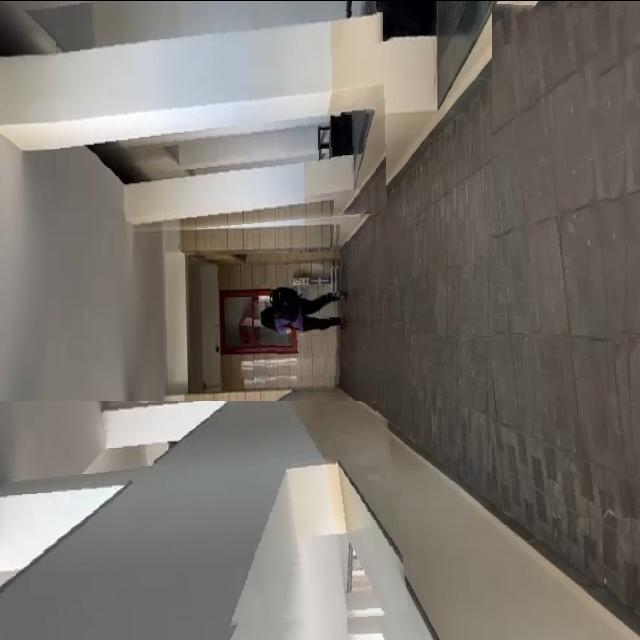floor: (492, 0, 640, 517), (330, 212, 516, 389)
moving_object: (254, 284, 333, 357)
wall: (0, 400, 409, 640), (56, 0, 387, 240)
